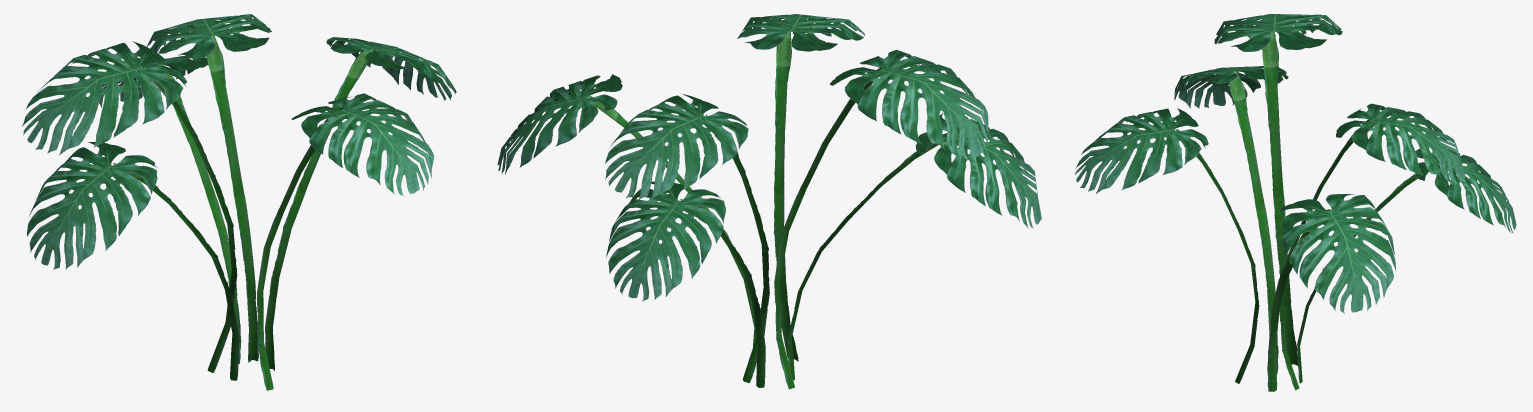
Rendered from phi_2s_HI.fbx.
3 views of the same model, side by side, from view 1: azimuth 30°, elevation 25°; view 2: azimuth 150°, elevation 25°; view 3: azimuth 270°, elevation 25° (orthographic). The views are drawn at different scales.
Visible parts, largest first — view 1: phi_HI; view 2: phi_HI; view 3: phi_HI.
Part boxes in pixels (x1,y1,x2,y2): phi_HI: (22, 14, 456, 390); phi_HI: (497, 14, 1041, 389); phi_HI: (1075, 14, 1516, 391).
Bounding box in the file's own units: 729 × 504 × 649.
